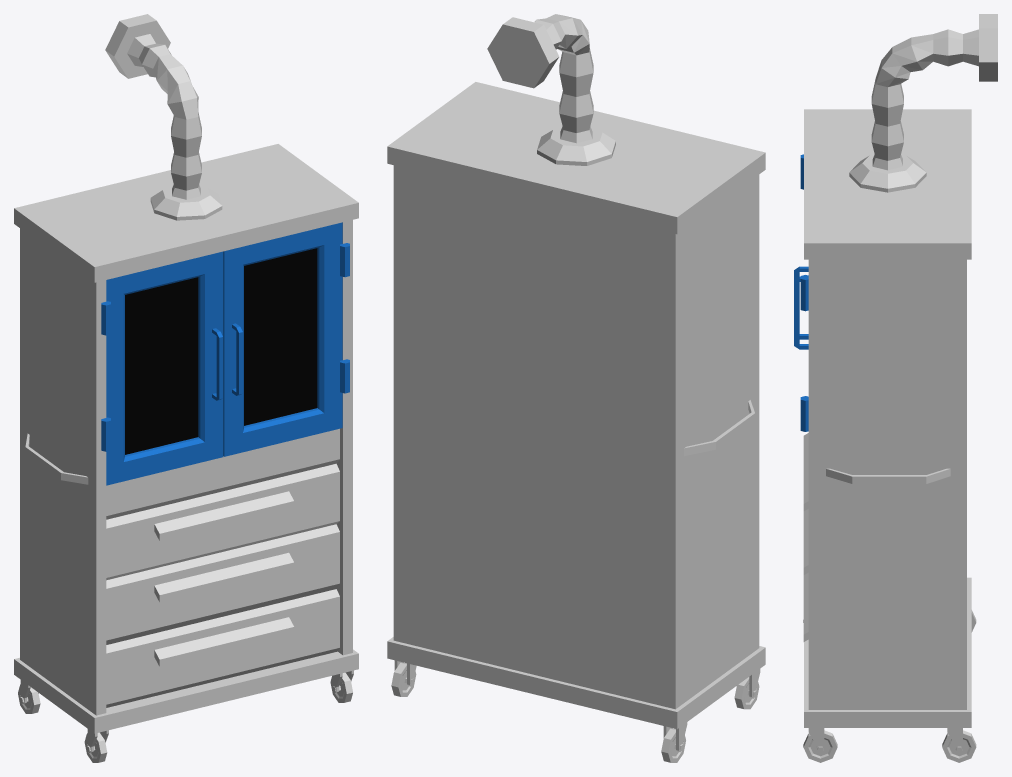
File: Ph_closet_1.fbx
3 renders of one model, left to right at view 1: azimuth 30°, elevation 25°; view 2: azimuth 150°, elevation 25°; view 3: azimuth 270°, elevation 25°, orthographic. The views are drawn at different scales.
Visible parts, largest first — view 1: Symmetry_16, Cylinder_2, Symmetry_10; view 2: Symmetry_16; view 3: Symmetry_16, Cylinder_2.
Part boxes in pixels (left/top/right/bottom): Symmetry_16: left=14, top=14, right=358, bottom=762; Cylinder_2: left=223, top=222, right=349, bottom=456; Symmetry_10: left=101, top=251, right=223, bottom=485; Symmetry_16: left=387, top=14, right=765, bottom=762; Symmetry_16: left=803, top=14, right=997, bottom=762; Cylinder_2: left=794, top=275, right=808, bottom=431.
Bounding box in the file's own units: 114 × 247 × 67.3.
